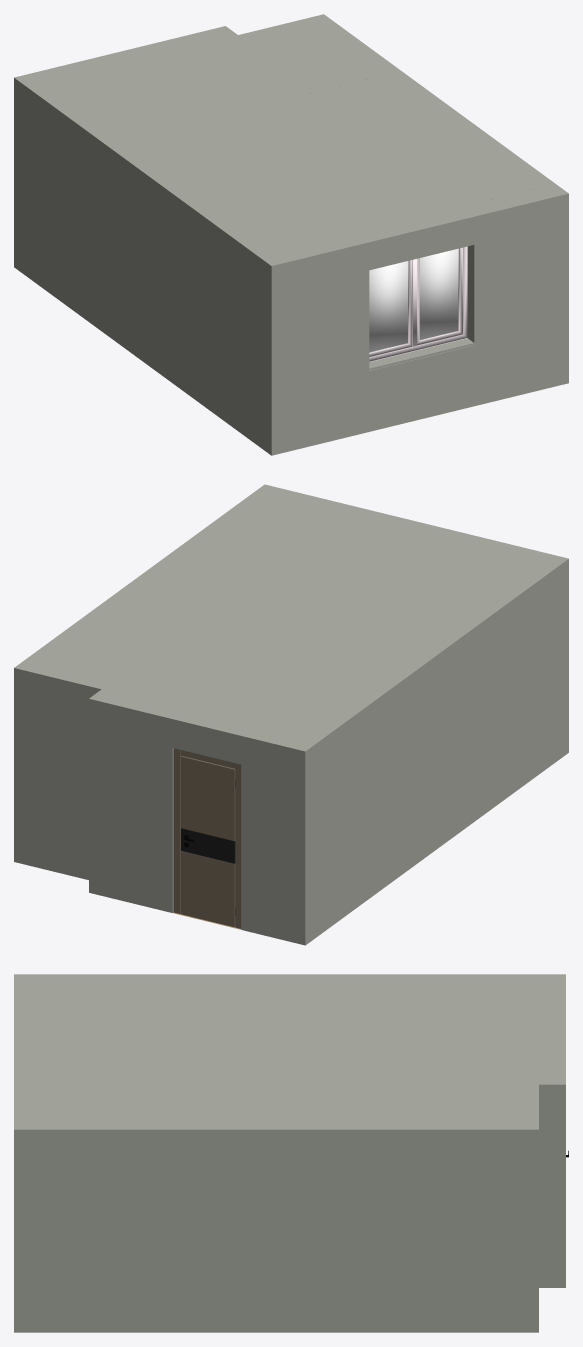
Rendered from apt-studroom.glb.
3 views of the same model, one above another, from view 1: azimuth 30°, elevation 25°; view 2: azimuth 150°, elevation 25°; view 3: azimuth 270°, elevation 25° (orthographic). The views are drawn at different scales.
Parts seen in each view (by area): view 1: Walls, Ceiling, window; view 2: Walls, Ceiling, Door_2; view 3: Walls, Ceiling.
Part boxes in pixels (x1=…): Walls: x1=14, y1=14, x2=568, y2=455; Ceiling: x1=36, y1=29, x2=540, y2=252; window: x1=369, y1=246, x2=473, y2=370; Walls: x1=14, y1=484, x2=568, y2=945; Ceiling: x1=54, y1=498, x2=539, y2=742; Door_2: x1=173, y1=748, x2=241, y2=928; Walls: x1=14, y1=974, x2=565, y2=1332; Ceiling: x1=42, y1=982, x2=565, y2=1121.
Bounding box in the file's own units: 4.43 × 2.71 × 6.68.
15 materials, 2 textured.
